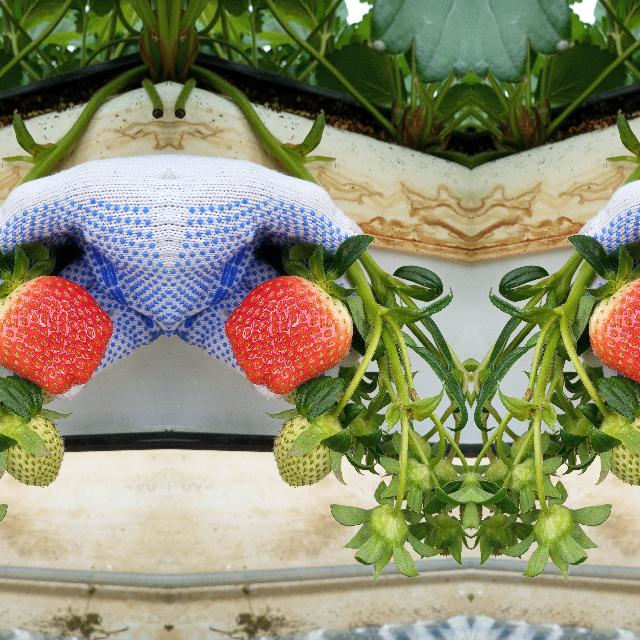Health_100: (222, 274, 352, 396), (0, 274, 114, 396), (588, 274, 640, 396)
Health_25: (262, 407, 338, 498), (0, 406, 74, 497), (603, 406, 640, 497)
